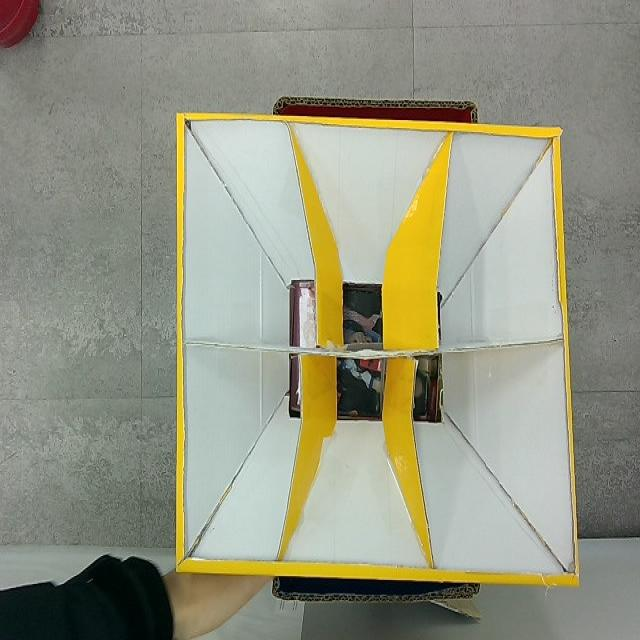box: (174, 96, 580, 595)
